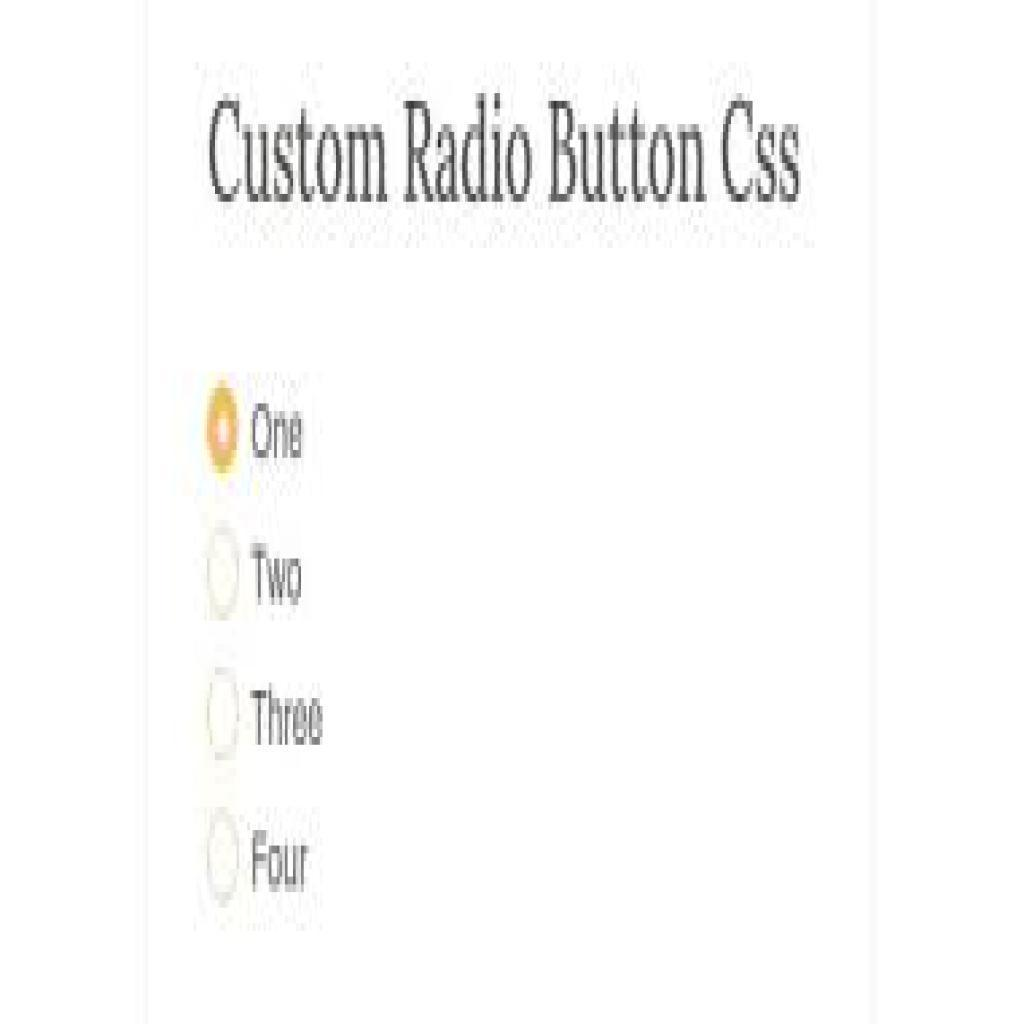radio: (204, 788, 244, 912), (205, 513, 244, 630), (205, 377, 245, 485), (207, 658, 244, 774)
